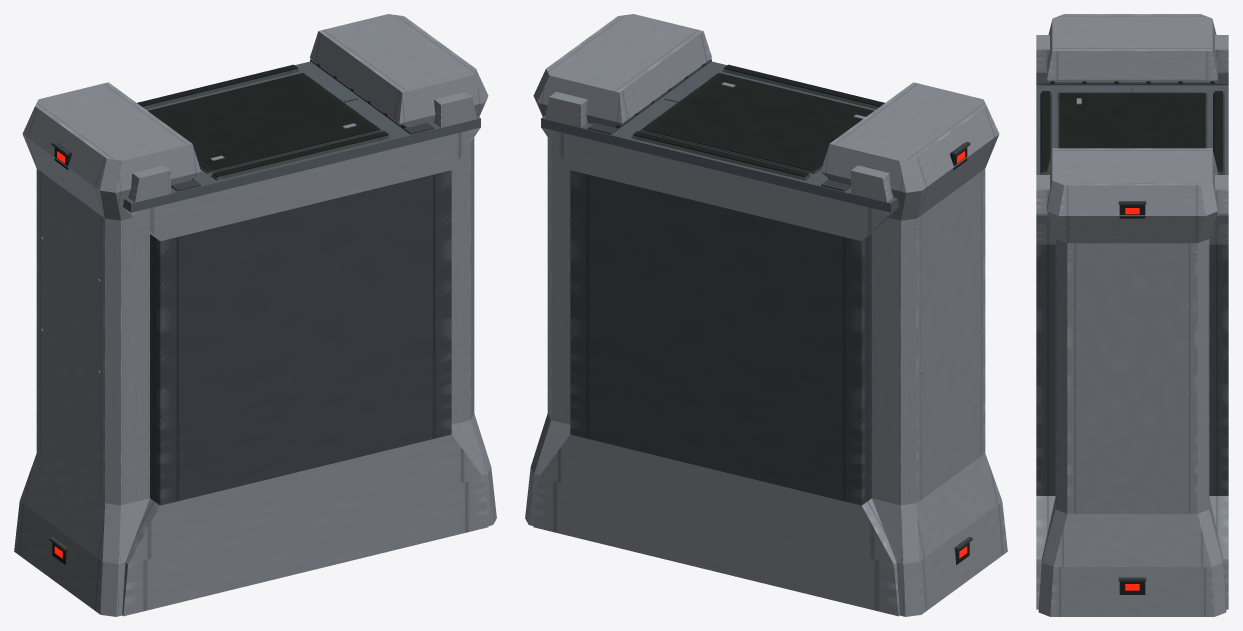
The model's file is half-bay.glb.
3 views of the same model, side by side, from view 1: azimuth 30°, elevation 25°; view 2: azimuth 150°, elevation 25°; view 3: azimuth 270°, elevation 25° (orthographic). The views are drawn at different scales.
Parts seen in each view (by area): view 1: half-bay-lod0-base0, half-bay-lod0-floor0, half-bay-lod0-roof0; view 2: half-bay-lod0-base0, half-bay-lod0-floor0, half-bay-lod0-roof0; view 3: half-bay-lod0-roof0, half-bay-lod0-base0, half-bay-lod0-floor0.
Boxes of the visible parts, x1,y1,x2,y2 form: half-bay-lod0-base0: (14,332,496,616); half-bay-lod0-floor0: (36,149,474,424); half-bay-lod0-roof0: (22,14,488,241); half-bay-lod0-base0: (525,332,1007,616); half-bay-lod0-floor0: (547,149,985,424); half-bay-lod0-roof0: (533,14,999,241); half-bay-lod0-roof0: (1036,14,1228,262); half-bay-lod0-base0: (1036,418,1228,616); half-bay-lod0-floor0: (1036,244,1228,436).
Size of what is drawn, in the model's own units: 40.96 by 44 by 18.
Materials: 6 (6 with a texture image).
